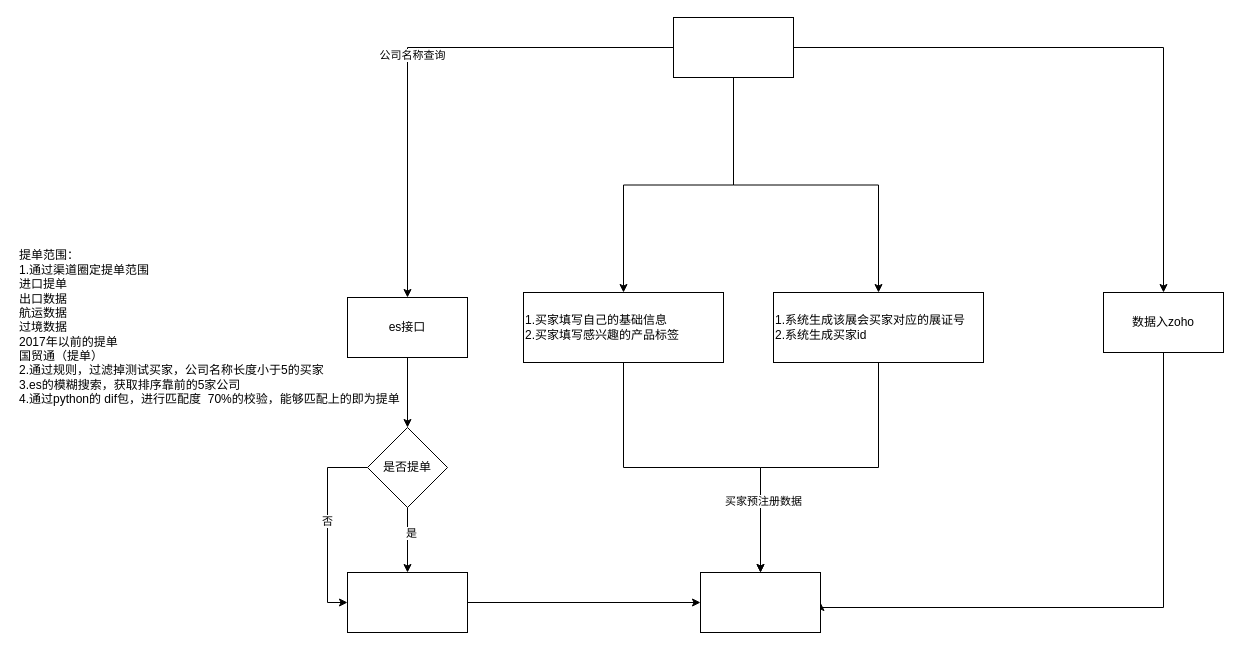
Image size: 1241x650. Some labels were removed from this diagram. The shapes that lost their labels are listed below. From the top down, each one's centre as x and y in pixels, then its label:
At (733,47): "买家预注册".
At (407,602): "记录数据".
At (760,602): "CDP".
